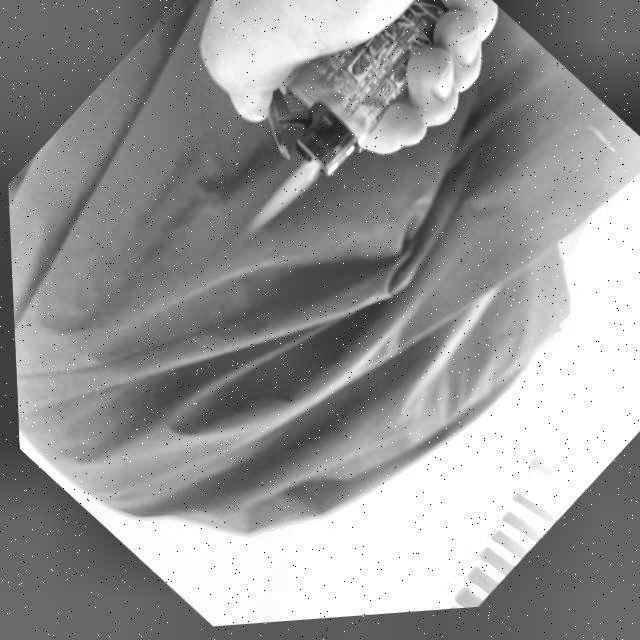Fire: (238, 159, 323, 244)
